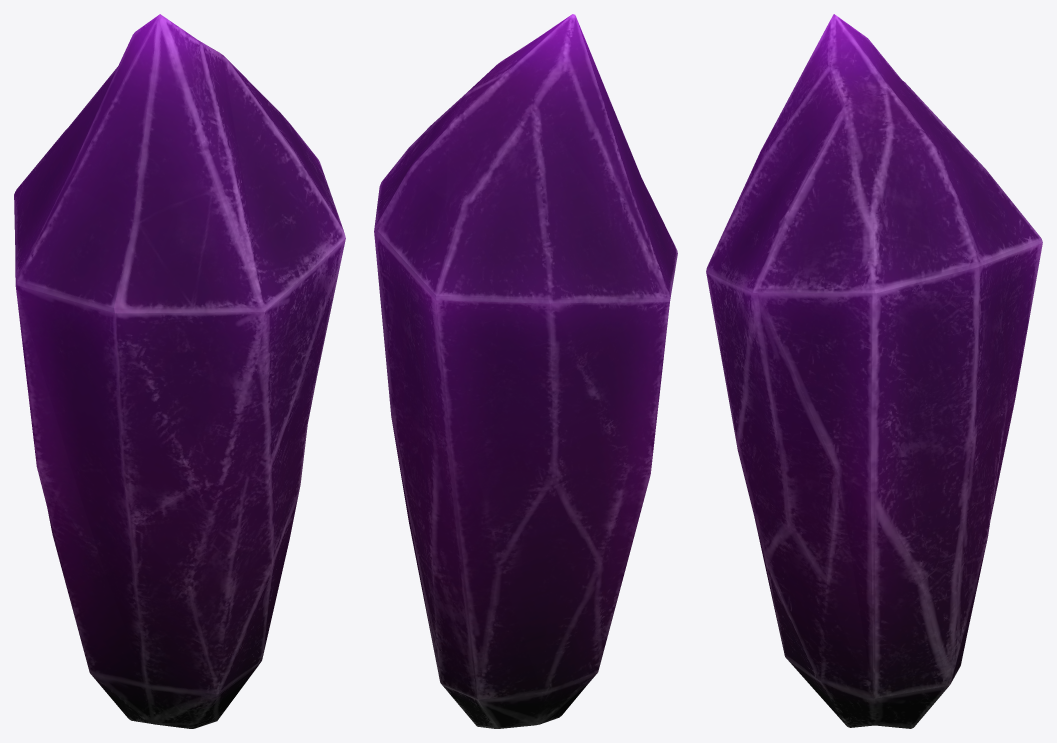
File: crystal.glb
The picture shows the model from 3 angles, left to right: view 1: azimuth 30°, elevation 25°; view 2: azimuth 150°, elevation 25°; view 3: azimuth 270°, elevation 25°; orthographic projection. The views are drawn at different scales.
Parts seen in each view (by area): view 1: Cylinder001; view 2: Cylinder001; view 3: Cylinder001.
Part boxes in pixels (x1,y1,x2,y2): Cylinder001: [14, 14, 345, 728]; Cylinder001: [374, 14, 677, 728]; Cylinder001: [706, 14, 1042, 728].
Bounding box in the file's own units: 0.8679 × 2 × 0.8875.
Materials: 1 (1 with a texture image).
